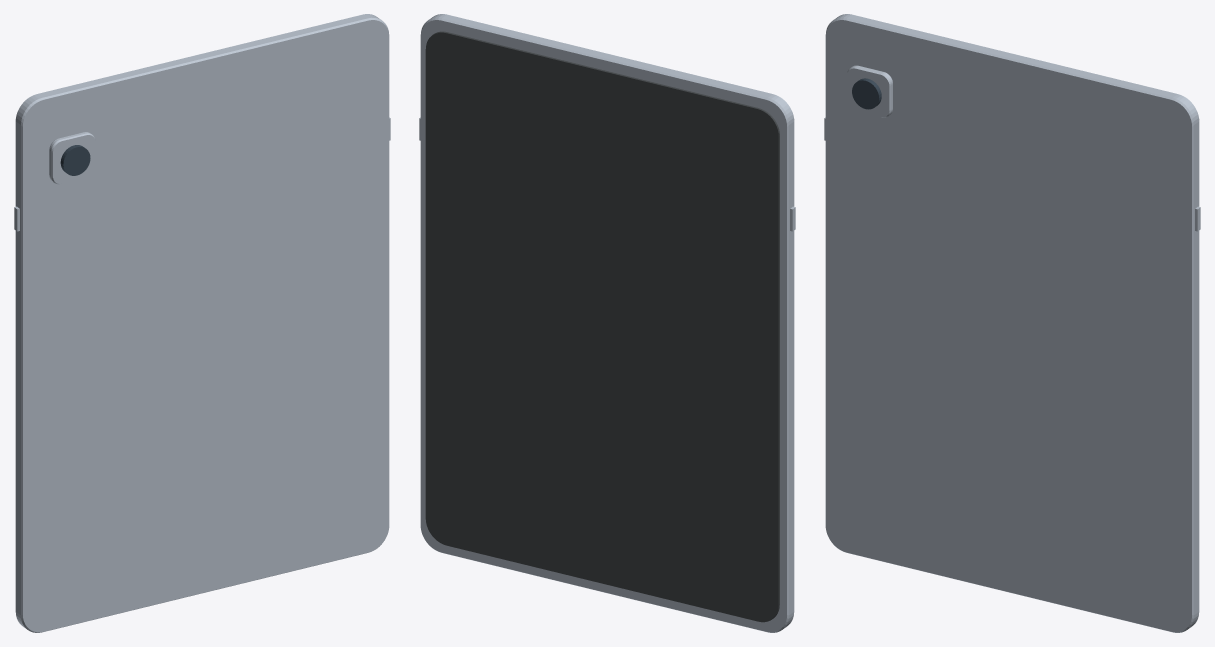
Rendered from ipad-air-11.glb.
3 renders of one model, left to right at view 1: azimuth 30°, elevation 25°; view 2: azimuth 150°, elevation 25°; view 3: azimuth 330°, elevation 25°, orthographic.
Parts seen in each view (by area): view 1: ipad-air-11__n000, ipad-air-11__n002, ipad-air-11__n003; view 2: ipad-air-11__n001, ipad-air-11__n000; view 3: ipad-air-11__n000, ipad-air-11__n002, ipad-air-11__n003.
Part boxes in pixels (x1,y1,x2,y2): ipad-air-11__n000: [15, 14, 389, 632]; ipad-air-11__n002: [49, 132, 95, 184]; ipad-air-11__n003: [60, 145, 90, 175]; ipad-air-11__n001: [425, 31, 779, 622]; ipad-air-11__n000: [420, 14, 794, 632]; ipad-air-11__n000: [825, 14, 1199, 632]; ipad-air-11__n002: [847, 65, 892, 117]; ipad-air-11__n003: [852, 78, 881, 109].
Size of the model in its own units: 2.12 by 2.91 by 0.1569.
